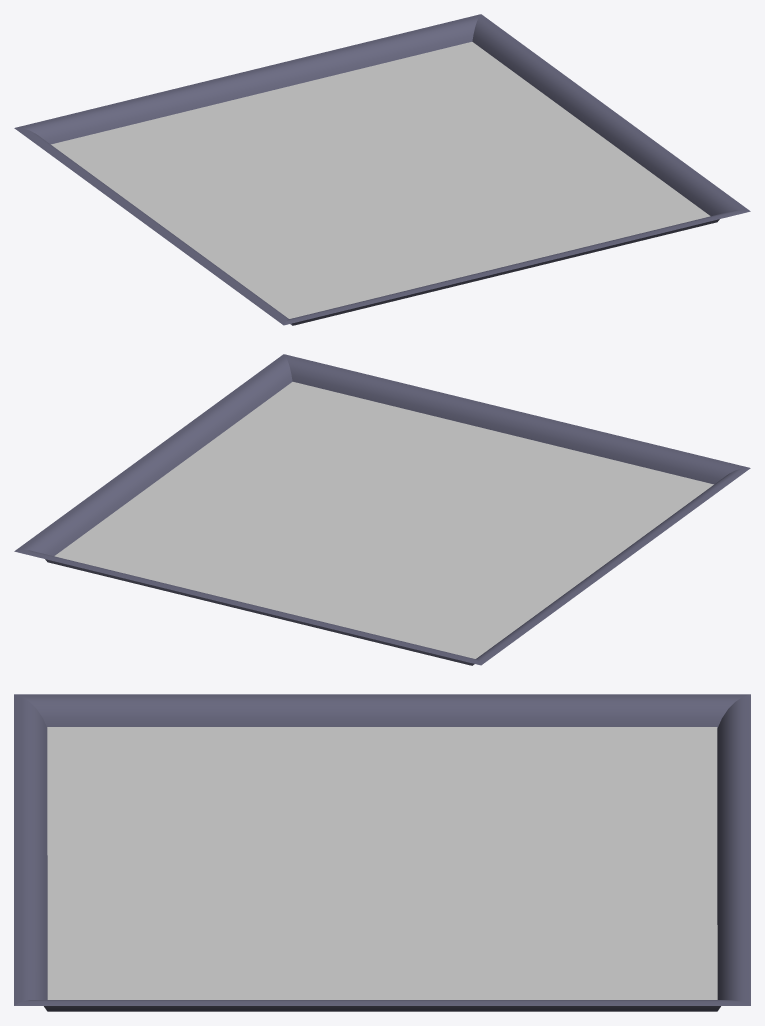
The model's file is Arena Large Tracked.fbx.
The picture shows the model from 3 angles, top to bottom: view 1: azimuth 30°, elevation 25°; view 2: azimuth 150°, elevation 25°; view 3: azimuth 270°, elevation 25°; orthographic projection. The views are drawn at different scales.
Visible parts, largest first — view 1: Arena Larg; view 2: Arena Larg; view 3: Arena Larg.
Part boxes in pixels (left/top/right/bottom): Arena Larg: left=14, top=14, right=750, bottom=325; Arena Larg: left=14, top=354, right=750, bottom=665; Arena Larg: left=14, top=694, right=750, bottom=1011.
Bounding box in the file's own units: 22 × 0.6846 × 22.
